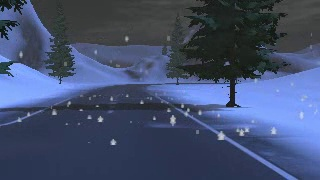Lane: (0, 82, 297, 179)
